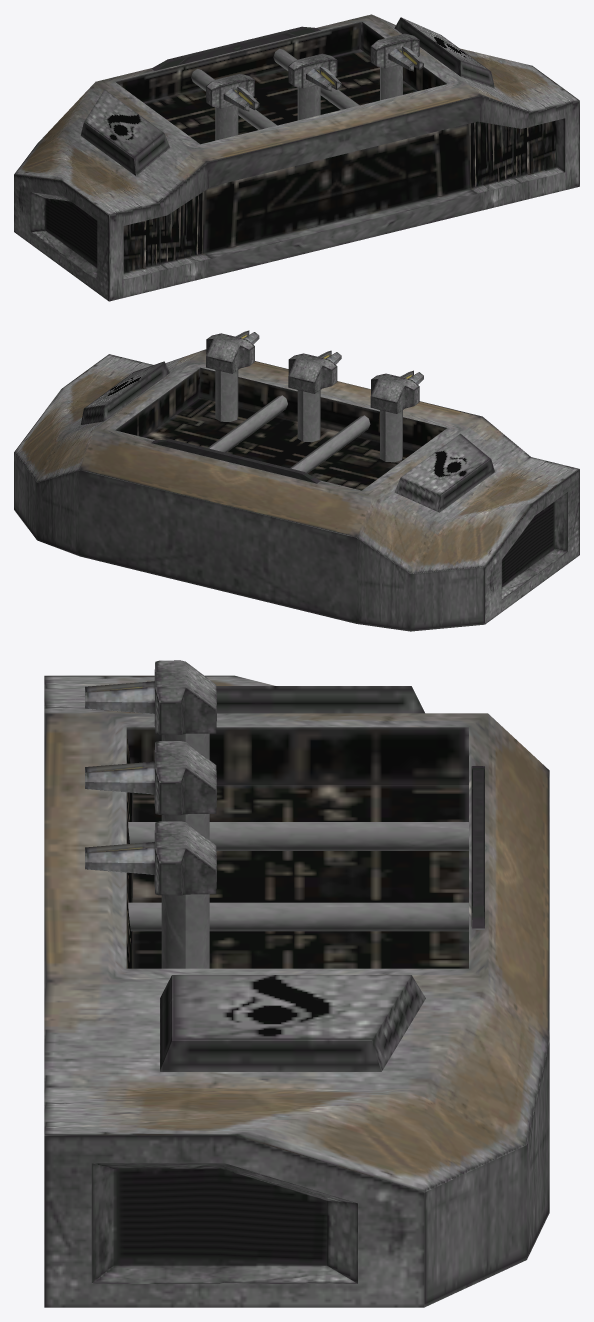
Rendered from pad_hover.dae.
The picture shows the model from 3 angles, top to bottom: view 1: azimuth 30°, elevation 25°; view 2: azimuth 150°, elevation 25°; view 3: azimuth 270°, elevation 25°; orthographic projection. The views are drawn at different scales.
Visible parts, largest first — view 1: Base, nano; view 2: Base, nano; view 3: Base, nano.
Part boxes in pixels (box(x1,y1,x2,y2)): Base: box(14, 14, 579, 301); nano: box(206, 33, 423, 140); Base: box(14, 349, 579, 631); nano: box(206, 330, 423, 462); Base: box(44, 675, 549, 1307); nano: box(85, 660, 216, 968).
Bounding box in the file's own units: 68.64 × 31.91 × 22.47.
